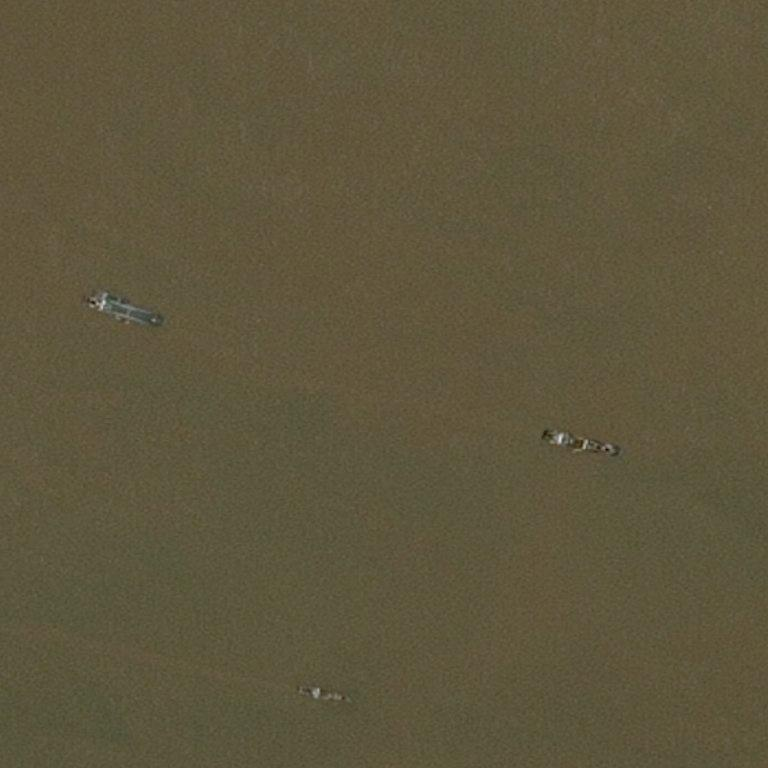ship: (296, 682, 350, 706), (46, 285, 49, 333), (582, 423, 584, 466), (617, 450, 622, 455), (544, 427, 549, 431), (159, 321, 163, 325), (79, 290, 83, 294), (88, 73, 92, 77), (543, 437, 547, 441), (345, 697, 349, 701), (299, 686, 302, 689), (68, 691, 69, 695)
